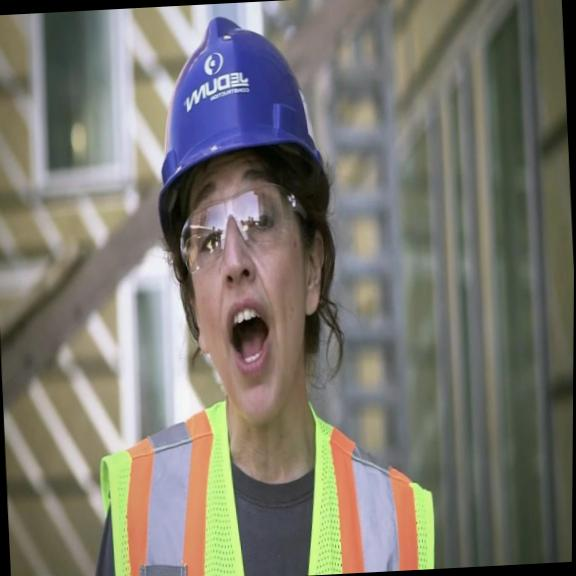safety_vest: (94, 383, 441, 576)
